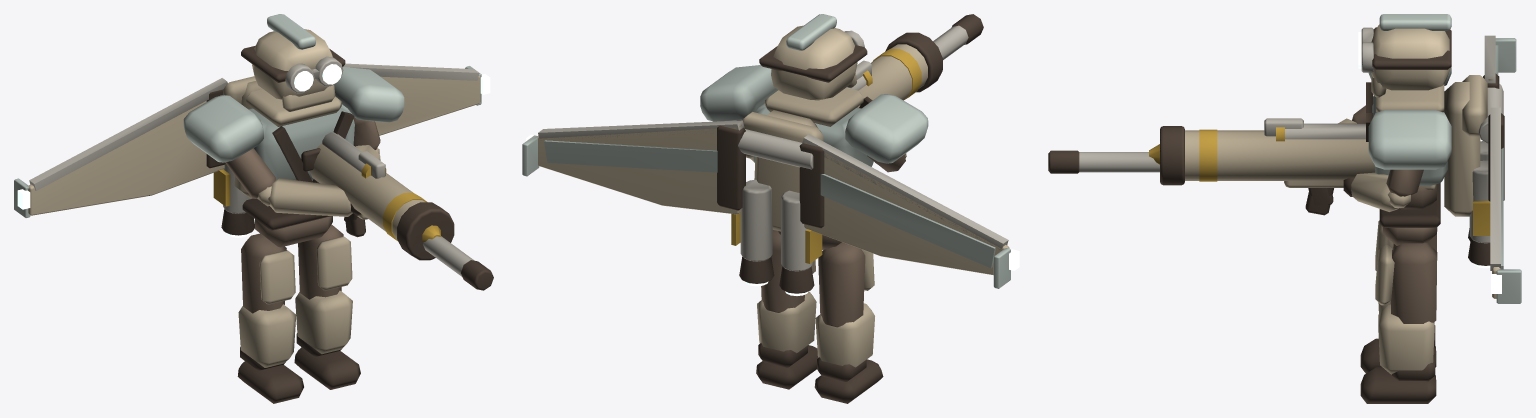
Rendered from skywing.glb.
3 renders of one model, left to right at view 1: azimuth 30°, elevation 25°; view 2: azimuth 150°, elevation 25°; view 3: azimuth 270°, elevation 25°, orthographic. The views are drawn at different scales.
Visible parts, largest first — view 1: Chest, Wing, Shin.001, Shin, Launcher, Wing.001, Arm_armor, Wing_spar, Helmet, Gear, Armor, Launcher_dark (+19 smaller); view 2: Chest, Wing.001, Wing, Wing_stripe, Wing_stripe.001, Thruster, Helmet, Leg_suit, Pack, Shin, Wing_spar, Shin.001 (+17 smaller); view 3: Launcher, Chest, Pack, Shin.001, Helmet, Leg_suit.001, Rifle_steel, Boot.001, Launcher_dark, Wing_spar.001, Gear, Armor (+19 smaller).
Part boxes in pixels (box(x1,y1,x2,y2)): Chest: box(183, 67, 404, 180); Wing: box(28, 101, 224, 215); Shin.001: box(295, 236, 352, 354); Shin: box(238, 250, 296, 367); Launcher: box(310, 143, 425, 239); Wing.001: box(375, 76, 480, 135); Arm_armor: box(257, 145, 380, 216); Wing_spar: box(29, 78, 227, 190); Helmet: box(252, 29, 332, 99); Gear: box(242, 111, 354, 230); Armor: box(246, 85, 341, 126); Launcher_dark: box(344, 202, 454, 260); Chest: box(700, 65, 928, 166); Wing.001: box(537, 124, 741, 214); Wing: box(804, 141, 1009, 275); Wing_stripe: box(820, 174, 1010, 288); Wing_stripe.001: box(522, 135, 717, 176); Thruster: box(740, 179, 812, 271); Helmet: box(771, 25, 857, 100); Leg_suit: box(818, 242, 865, 327); Pack: box(742, 110, 823, 231); Shin: box(815, 249, 874, 367); Wing_spar: box(802, 134, 1008, 249); Shin.001: box(757, 260, 816, 353); Launcher: box(1185, 130, 1375, 180); Chest: box(1368, 67, 1451, 185); Pack: box(1444, 75, 1487, 216); Shin.001: box(1375, 245, 1434, 374); Helmet: box(1371, 24, 1450, 90); Leg_suit.001: box(1390, 242, 1437, 323); Rifle_steel: box(1079, 123, 1365, 172); Boot.001: box(1360, 353, 1436, 403); Launcher_dark: box(1160, 126, 1333, 206); Wing_spar.001: box(1490, 107, 1500, 270); Gear: box(1366, 82, 1440, 227); Armor: box(1371, 74, 1444, 112).
Size of the model in its own units: 3.15 by 2.25 by 2.63.
